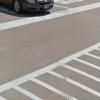Crosswalk: (5, 44, 99, 100)
